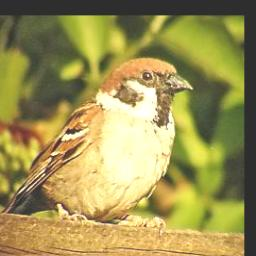Sparrow: (2, 55, 197, 236)
